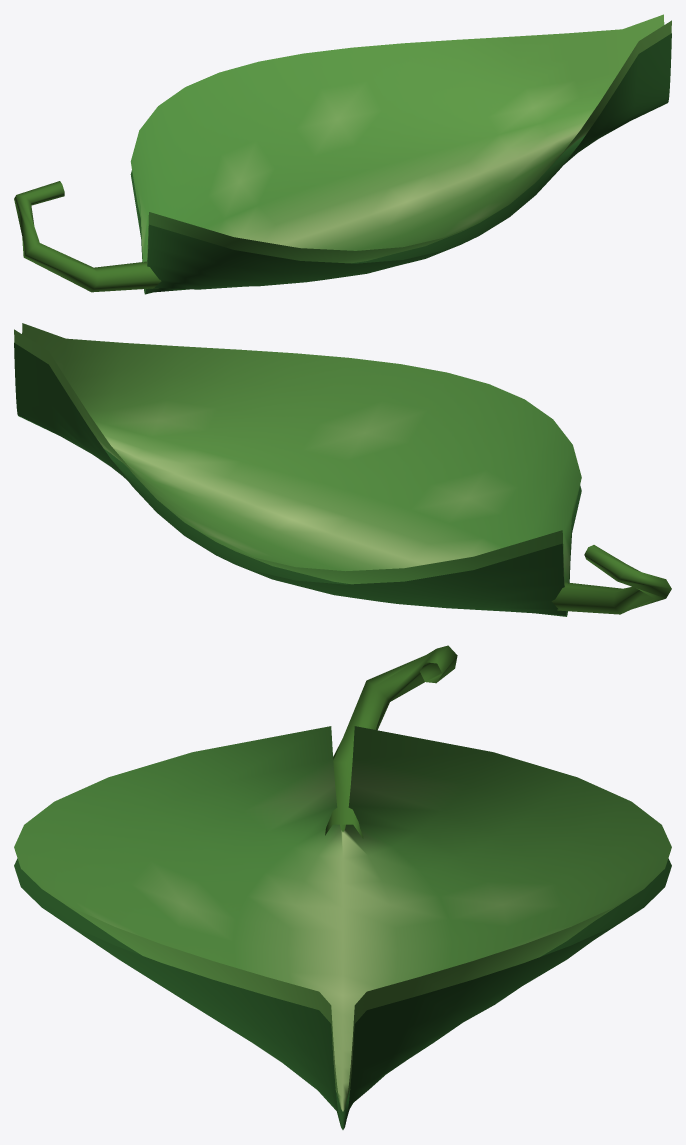
The model's file is item_leaf.glb.
3 renders of one model, top to bottom at view 1: azimuth 30°, elevation 25°; view 2: azimuth 150°, elevation 25°; view 3: azimuth 270°, elevation 25°, orthographic. The views are drawn at different scales.
Parts seen in each view (by area): view 1: item_leaf_main; view 2: item_leaf_main; view 3: item_leaf_main.
Boxes of the visible parts, left/top/right/bottom form: item_leaf_main: left=14, top=14, right=671, bottom=294; item_leaf_main: left=14, top=323, right=671, bottom=616; item_leaf_main: left=14, top=645, right=671, bottom=1129.
Size of the model in its own units: 0.3628 by 0.082 by 0.2239.
